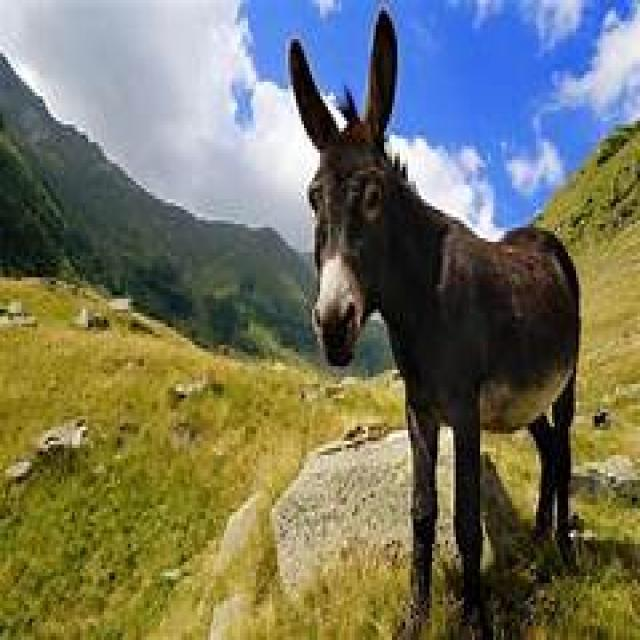Donkey: (242, 5, 618, 638)
